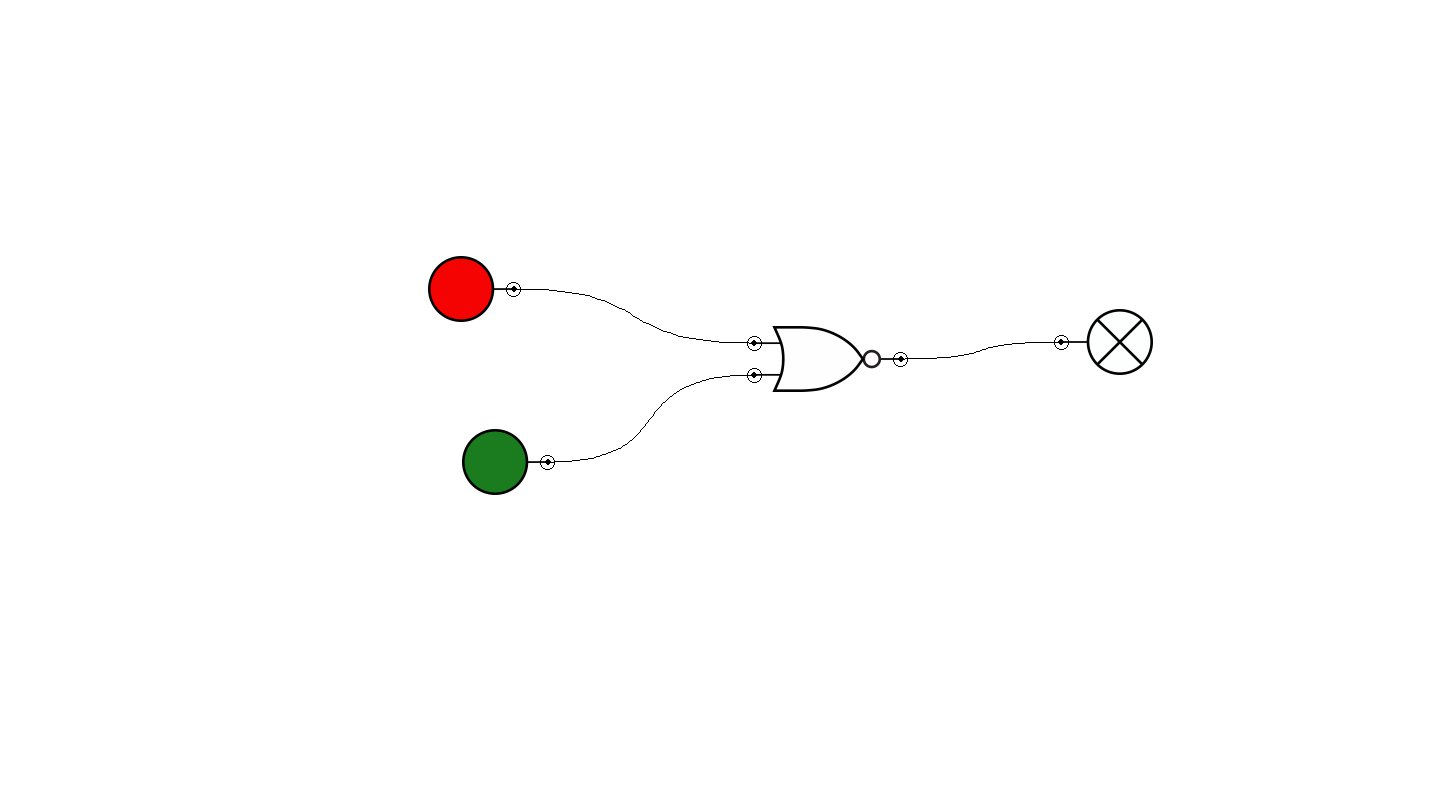bulb: (1054, 309, 1153, 375)
nor: (747, 326, 908, 392)
switch_False: (428, 256, 521, 322)
switch_True: (462, 429, 555, 495)
